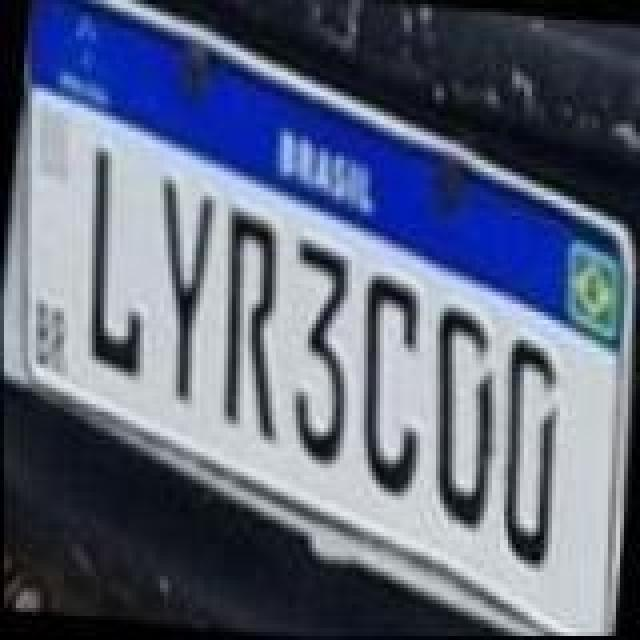3: (278, 234, 366, 466)
C: (346, 274, 438, 502)
D: (416, 300, 512, 532), (484, 334, 572, 570)
L: (72, 148, 164, 388)
R: (206, 206, 302, 442)
Y: (140, 176, 216, 408)
